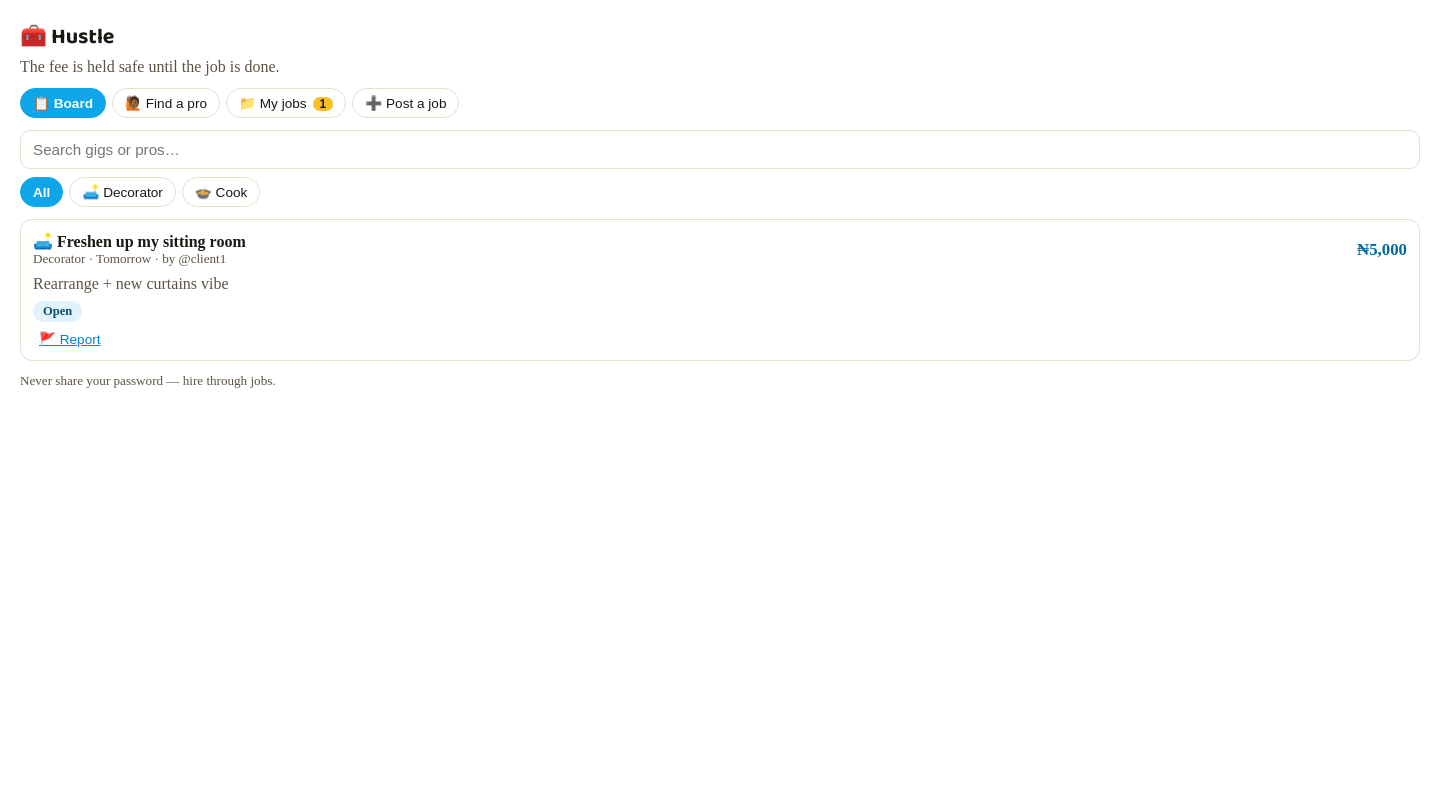
HustleApp › post-a-job shows the decorator copy and the no-pay promise
Click the tab "➕ Post a job". click: (406, 103)
box: [352, 88, 460, 118]
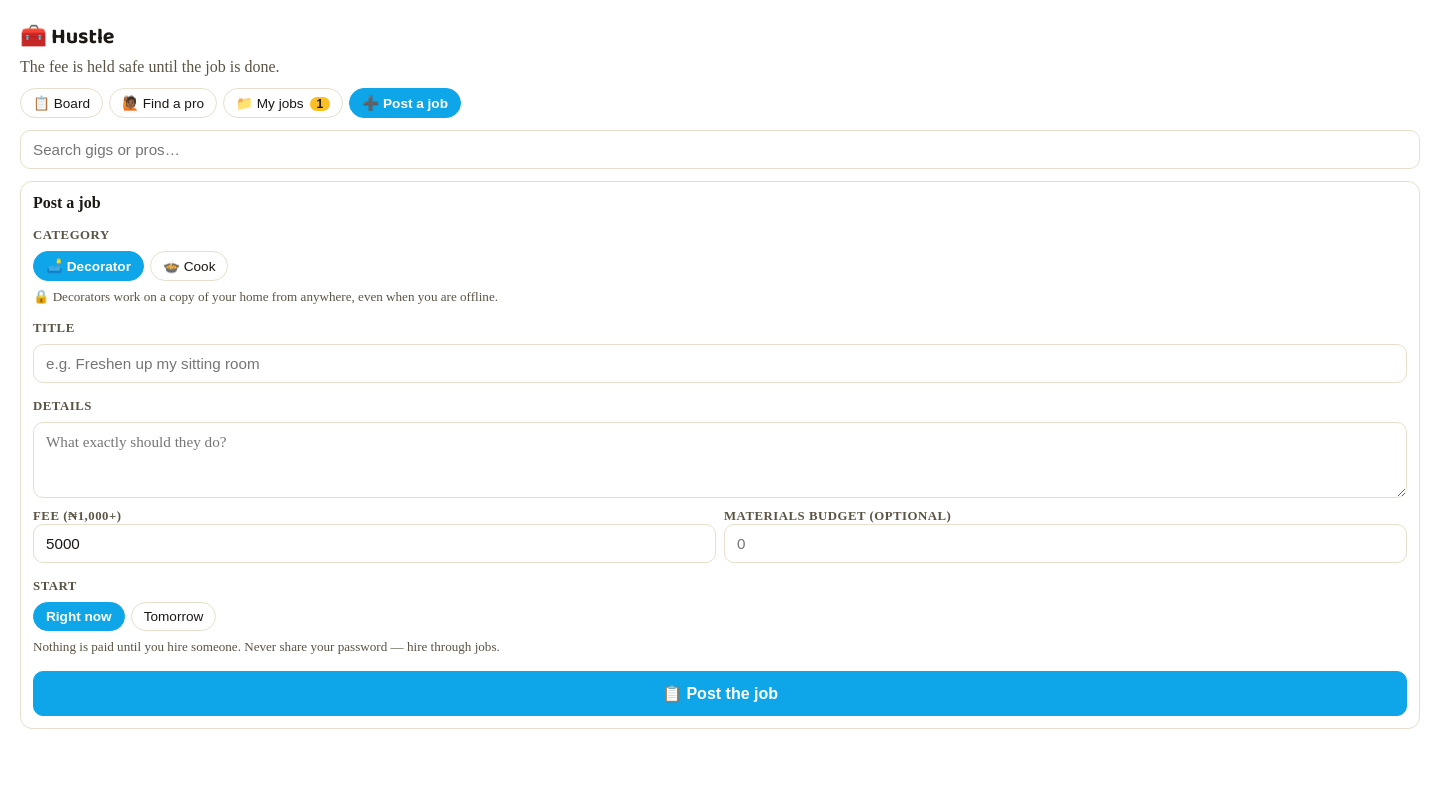
expect the text "Decorators work on a copy of your home" is shown: met, box [53, 289, 498, 304]
expect the text "Nothing is paid until you hire someone" is shown: met, box [33, 639, 241, 654]
